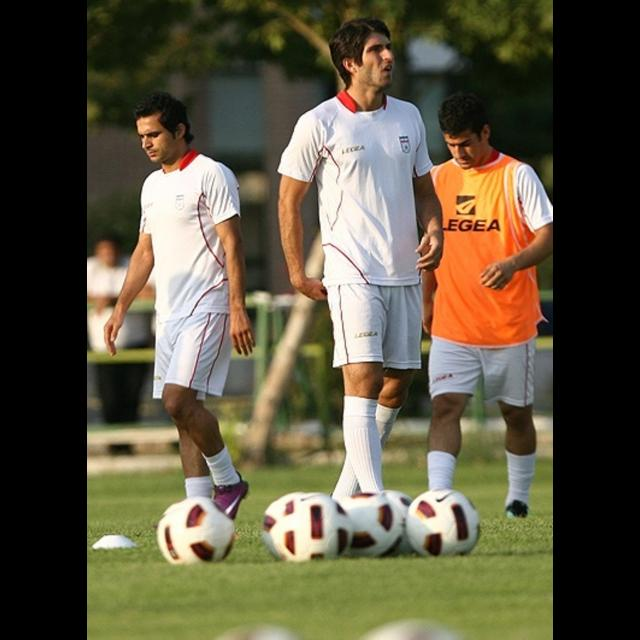Football: (264, 488, 484, 556), (168, 495, 234, 563), (158, 505, 168, 557)
